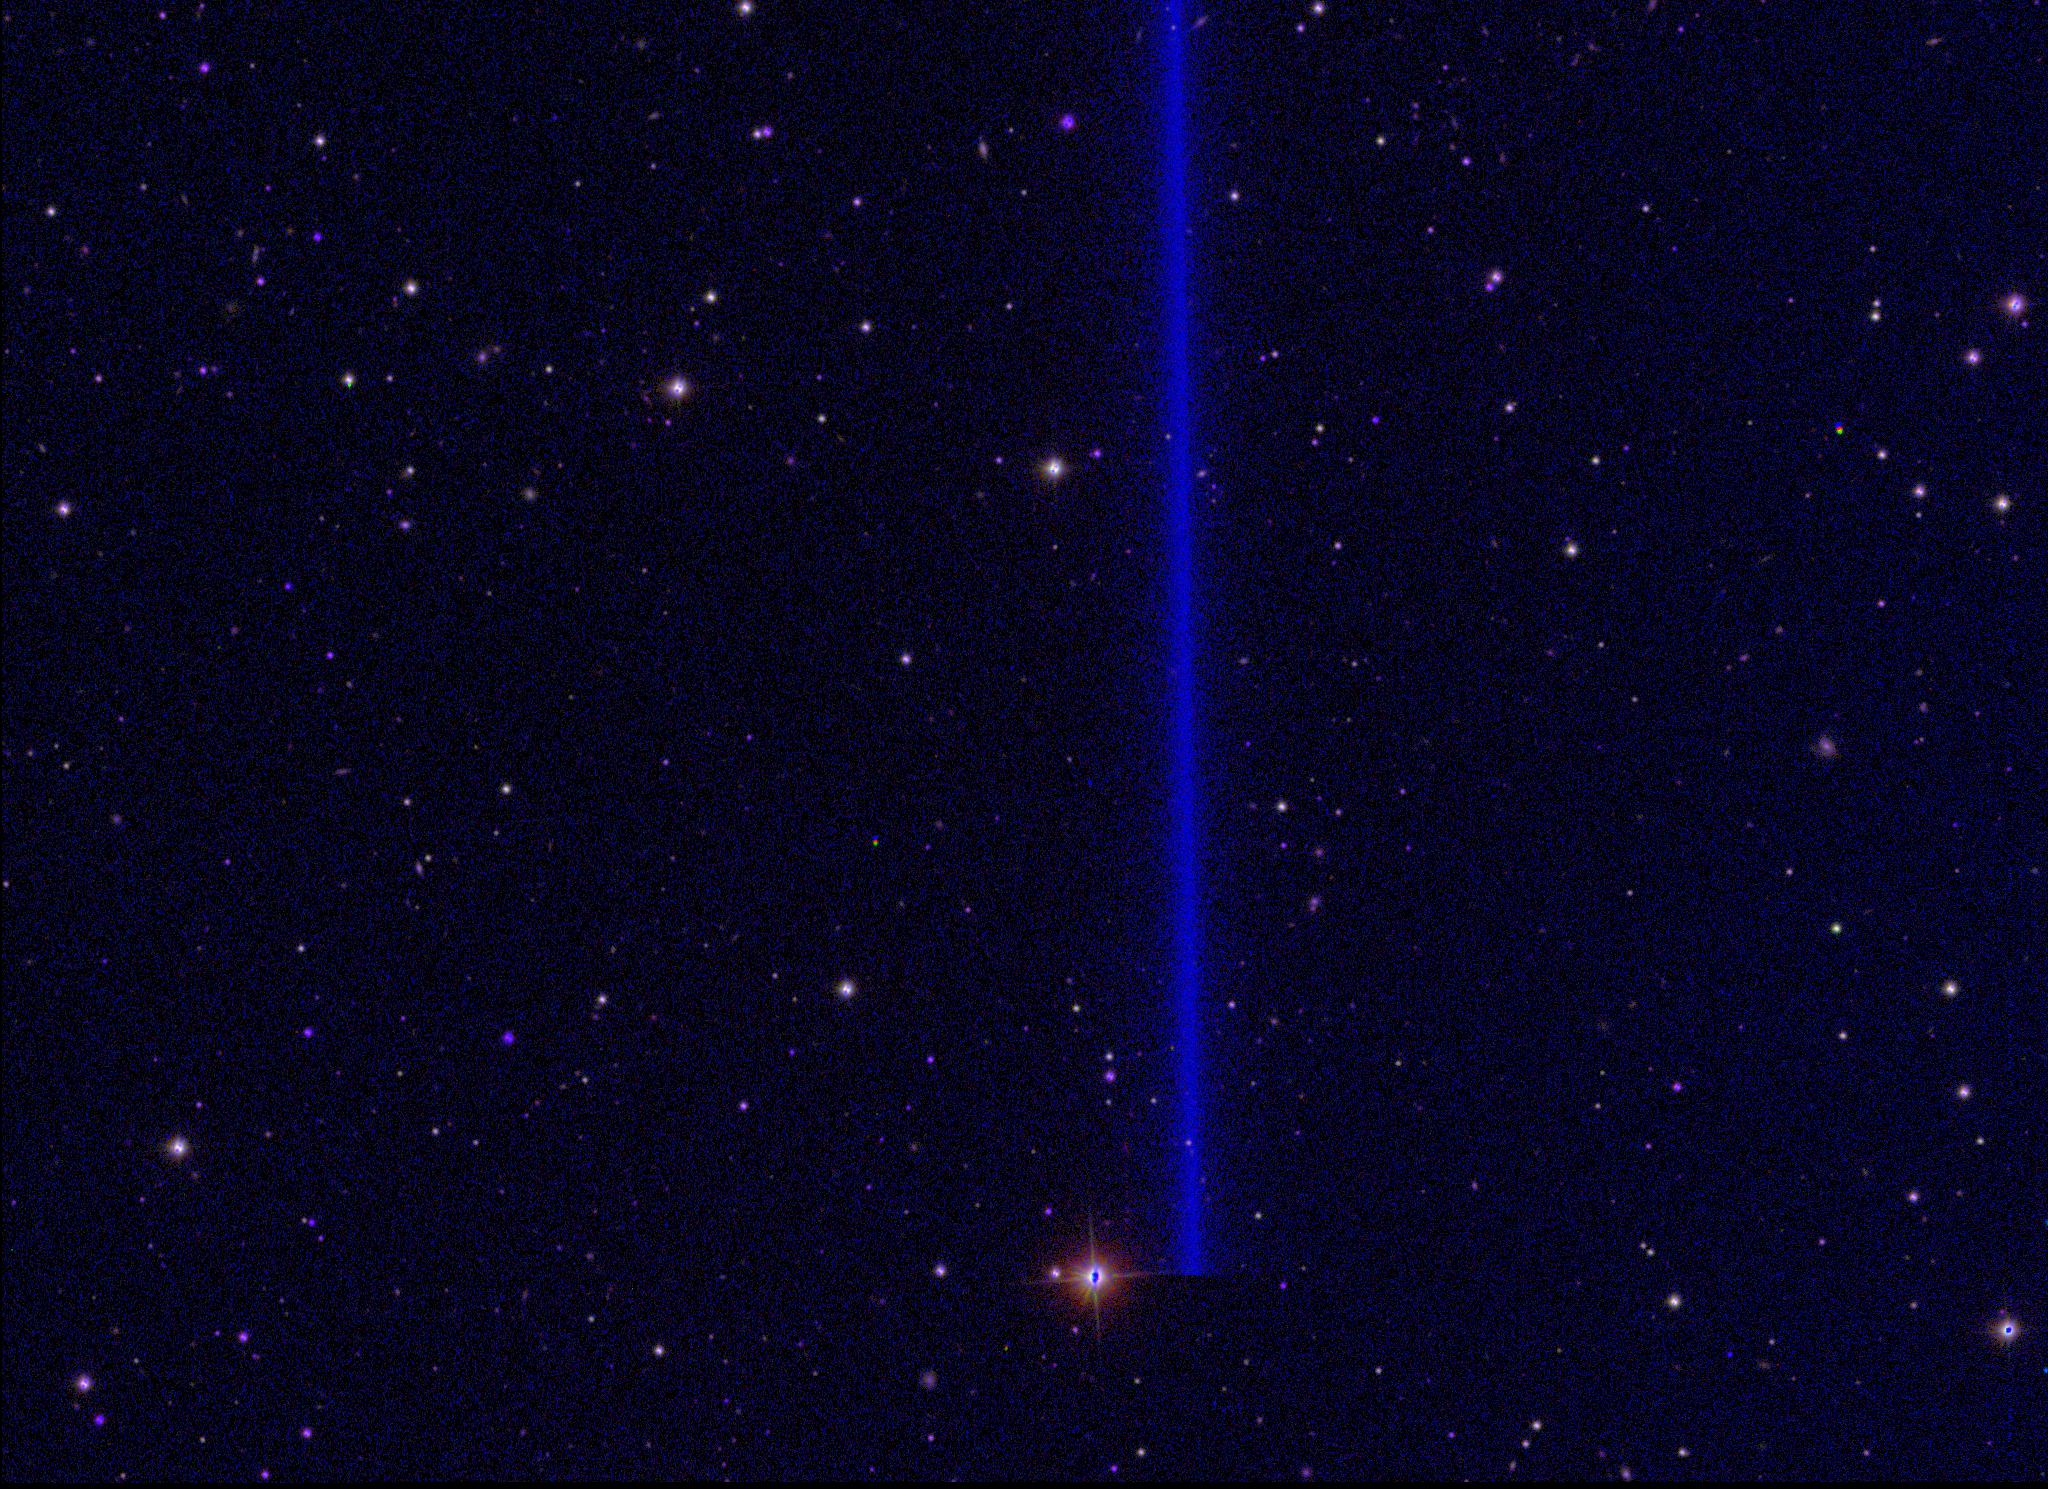L: (1724, 1347, 1736, 1362)
